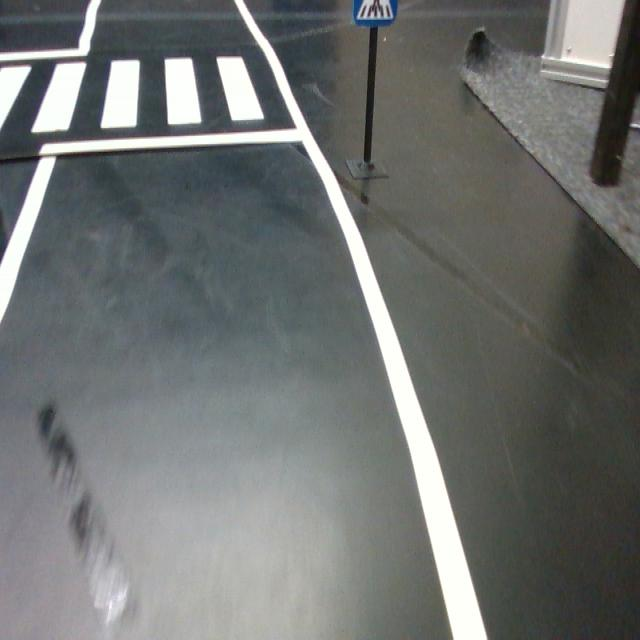crosswalk-sign: (352, 0, 398, 27)
